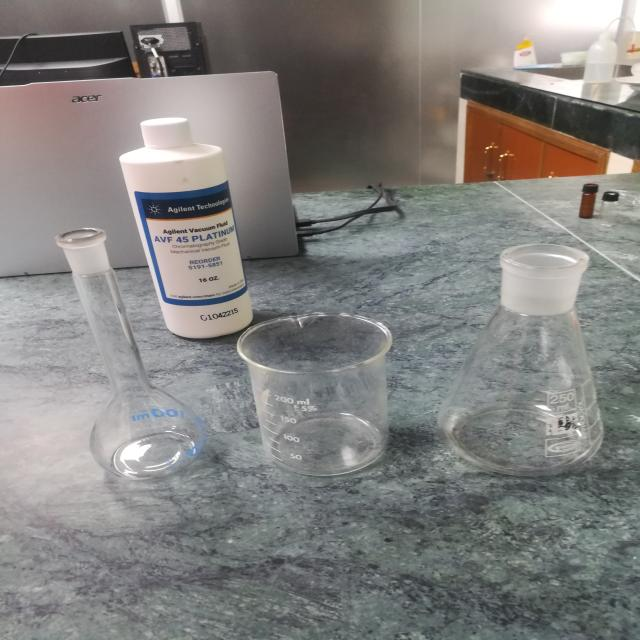Beaker: (231, 300, 409, 482)
Conical_Flask: (428, 216, 622, 498)
Volumetric_Flask: (24, 207, 218, 497)
